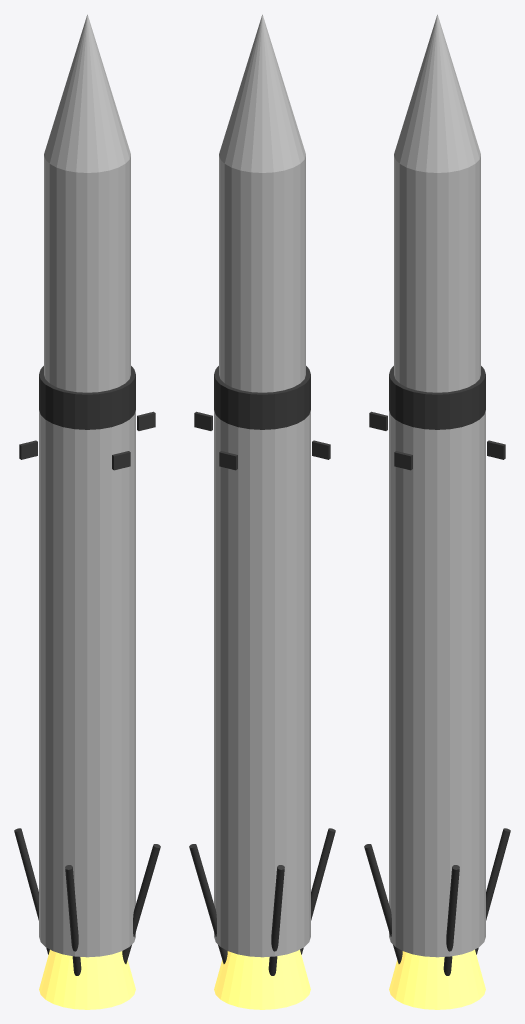
The model's file is rocket-v0.glb.
The picture shows the model from 3 angles, left to right: view 1: azimuth 30°, elevation 25°; view 2: azimuth 150°, elevation 25°; view 3: azimuth 330°, elevation 25°; orthographic projection.
Parts seen in each view (by area): view 1: Rocket_v0; view 2: Rocket_v0; view 3: Rocket_v0.
Part boxes in pixels (x1,y1,x2,y2): Rocket_v0: (14,14,160,1009); Rocket_v0: (189,14,335,1009); Rocket_v0: (364,14,510,1009).
Size of the model in its own units: 1.6 by 11.1 by 1.44.
